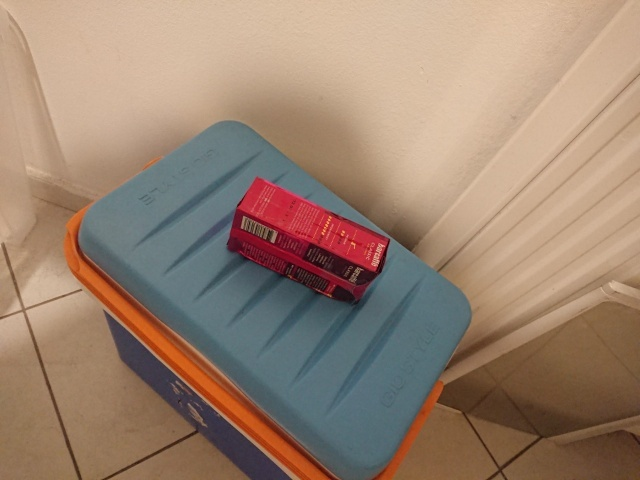Barcaffe Classic Original 225g: (225, 173, 392, 307)
